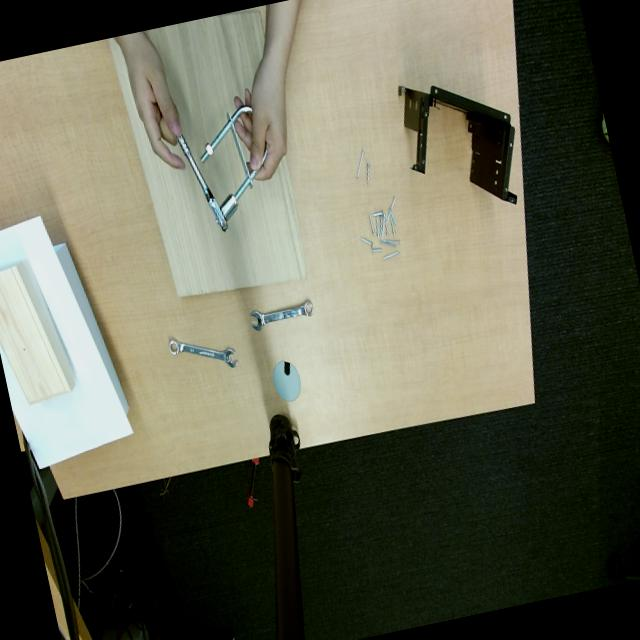wrench: (178, 136, 237, 231), (168, 337, 237, 367), (251, 300, 313, 330)
